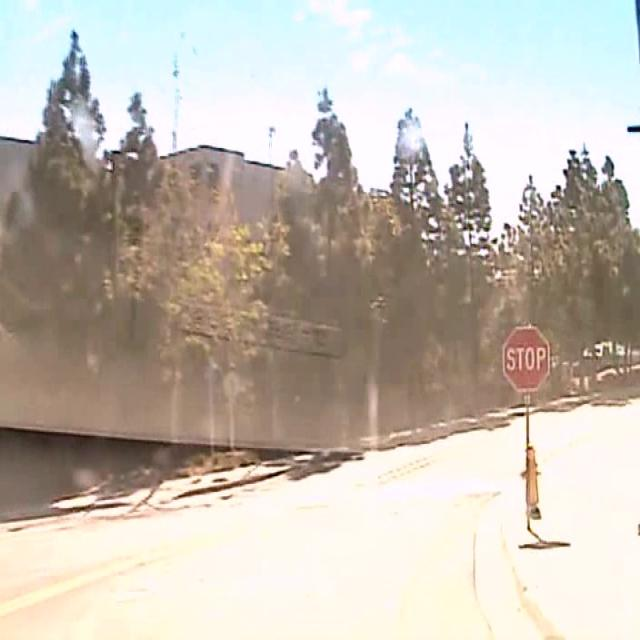stop_sign: (502, 325, 550, 392)
